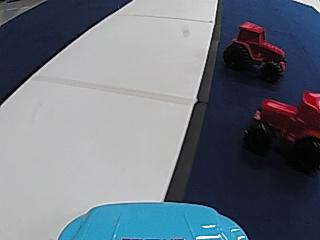Tracktor: (246, 82, 319, 167), (223, 18, 287, 80)
